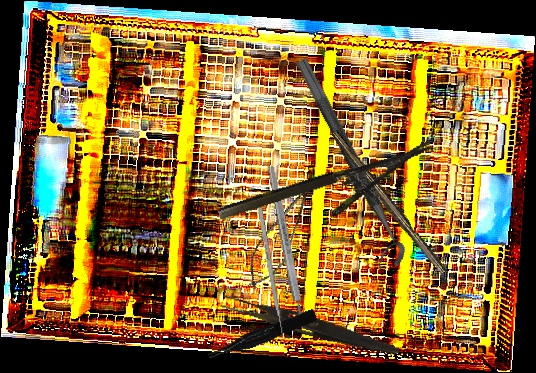Dressing Forceps: (218, 293, 403, 359)
Fixation Ring: (278, 56, 411, 275)
Micro Scissor: (236, 166, 329, 298)
Needle Holder: (216, 140, 443, 249)
Pusher: (255, 195, 287, 346)
Scalpel Handle: (326, 129, 450, 277), (266, 165, 308, 329)
Tissue Forceps: (205, 308, 319, 362)
